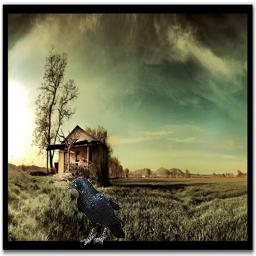Crow: (66, 177, 125, 245)
